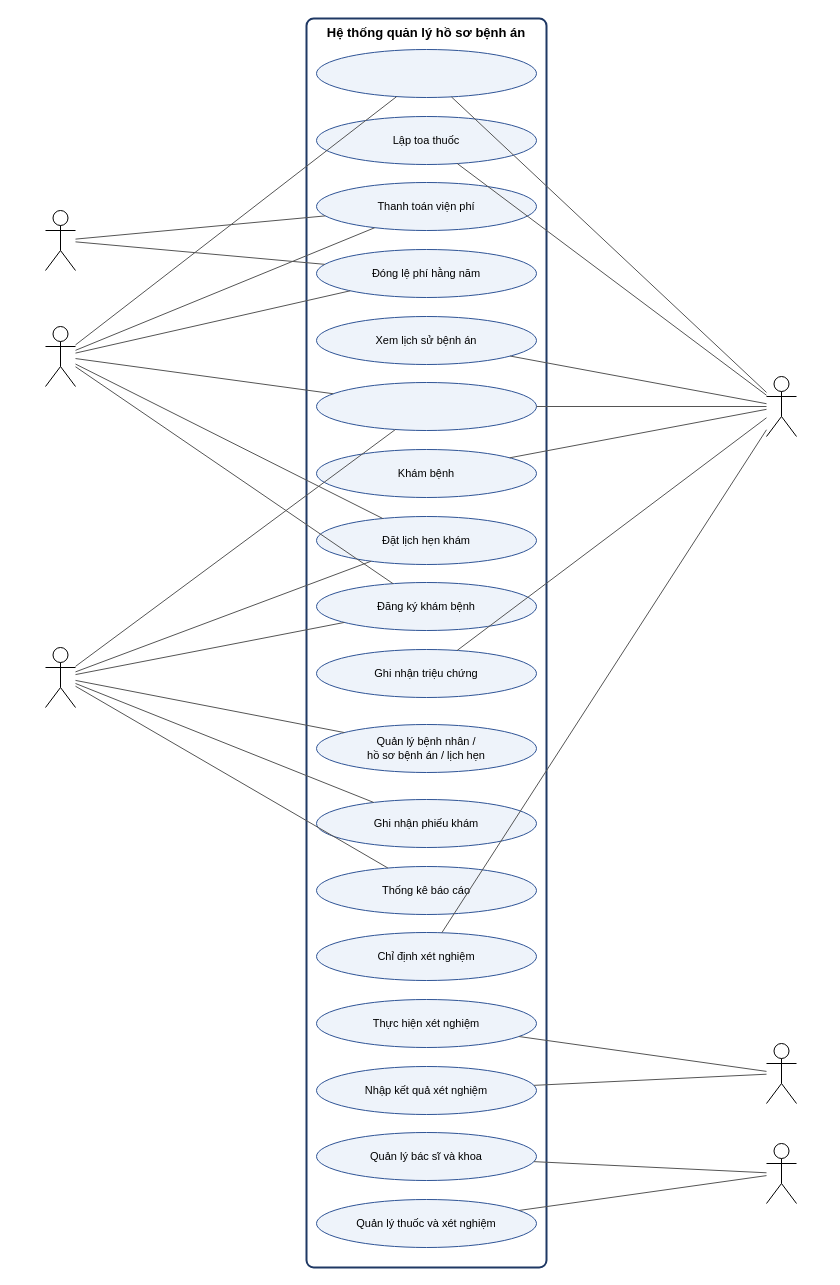
This 840x1285 diagram has some shape labels left out. The centre of each missing label's shape, as x and y in pixels:
Bác sĩ: the point at 781,406
Bệnh nhân: the point at 60,356
Khám sức khỏe định kỳ: the point at 426,73
KTV xét nghiệm: the point at 781,1073
Nhân viên CSKH: the point at 60,677
Quản trị viên: the point at 781,1173
Thu ngân: the point at 60,240
Tra cứu hồ sơ bệnh án: the point at 426,406
